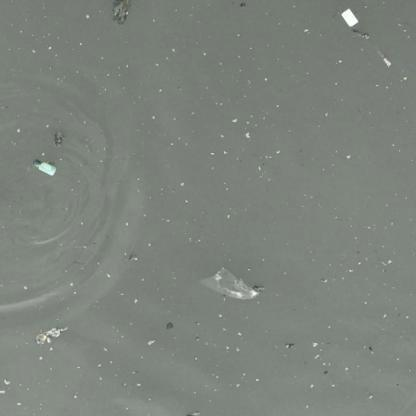Glass: (29, 156, 62, 180)
Plastic: (32, 325, 69, 353)
Trash: (200, 264, 266, 304), (338, 5, 361, 31)
